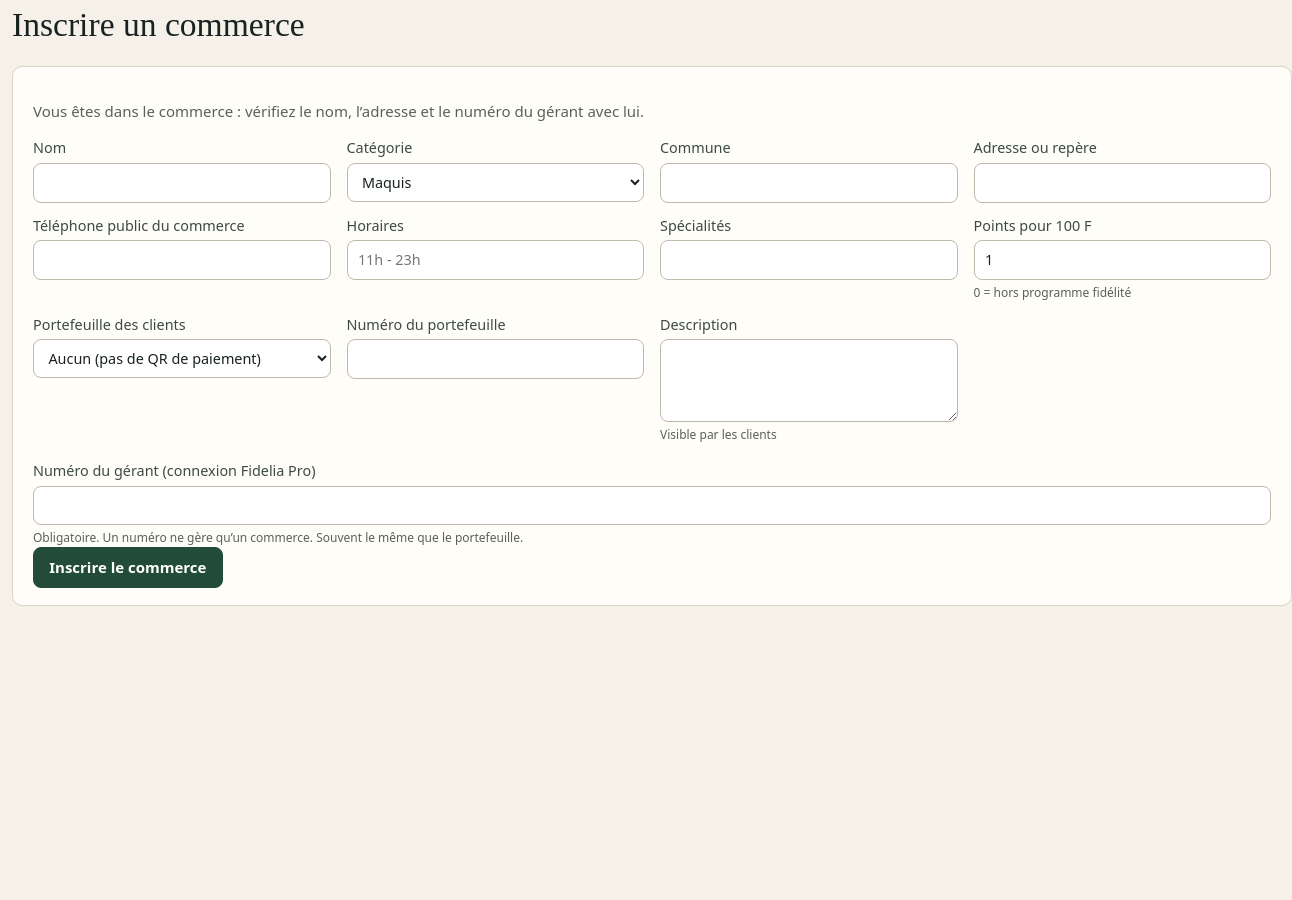
it: field agent › shows the refusal in the server words
The image size is (1292, 900).
In the field labelled "Nom": (182, 183) 33,163 -> 330,203, type "Shop"
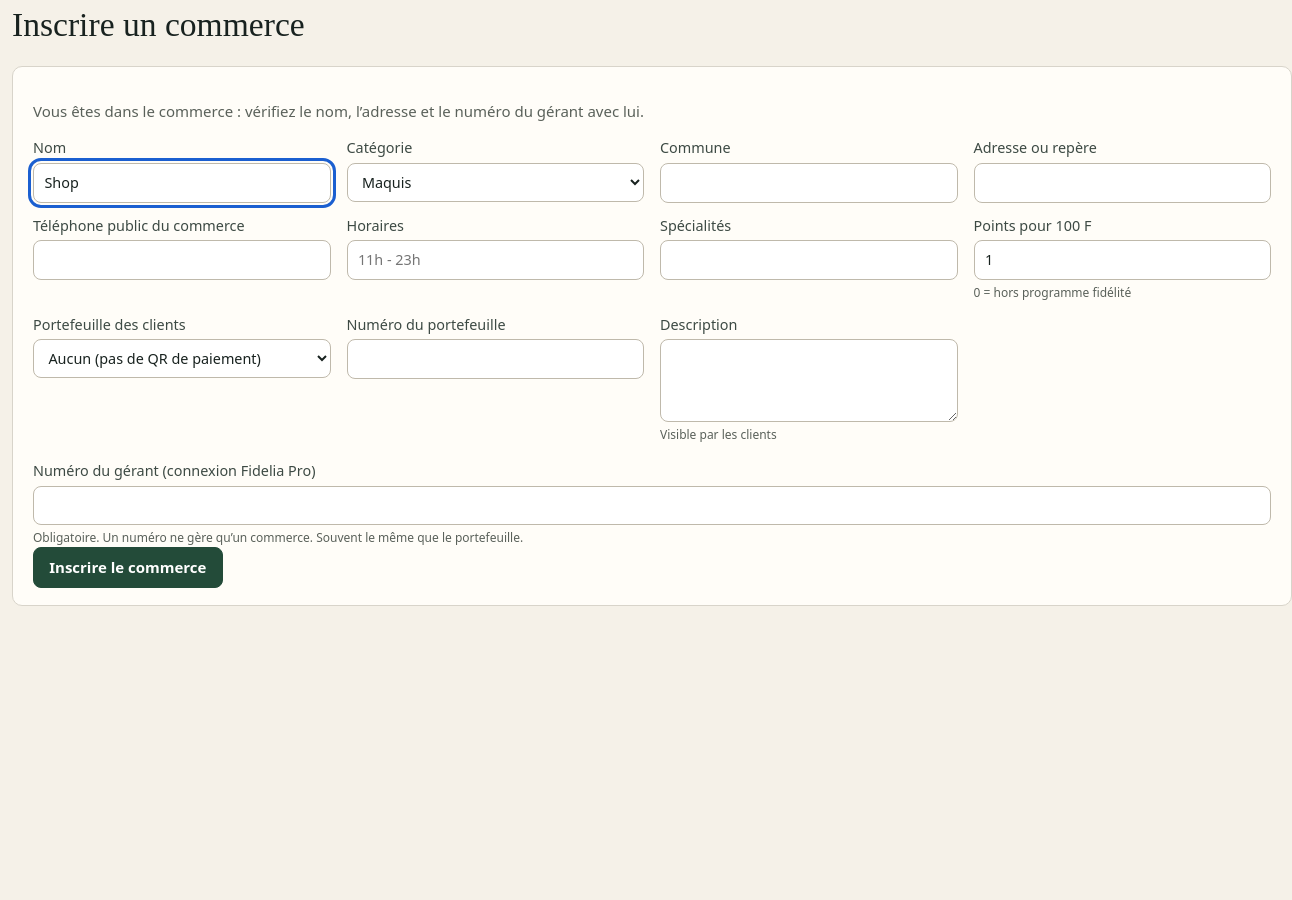
In the field labelled "Commune": (809, 183) 660,163 -> 958,203, type "Abobo"
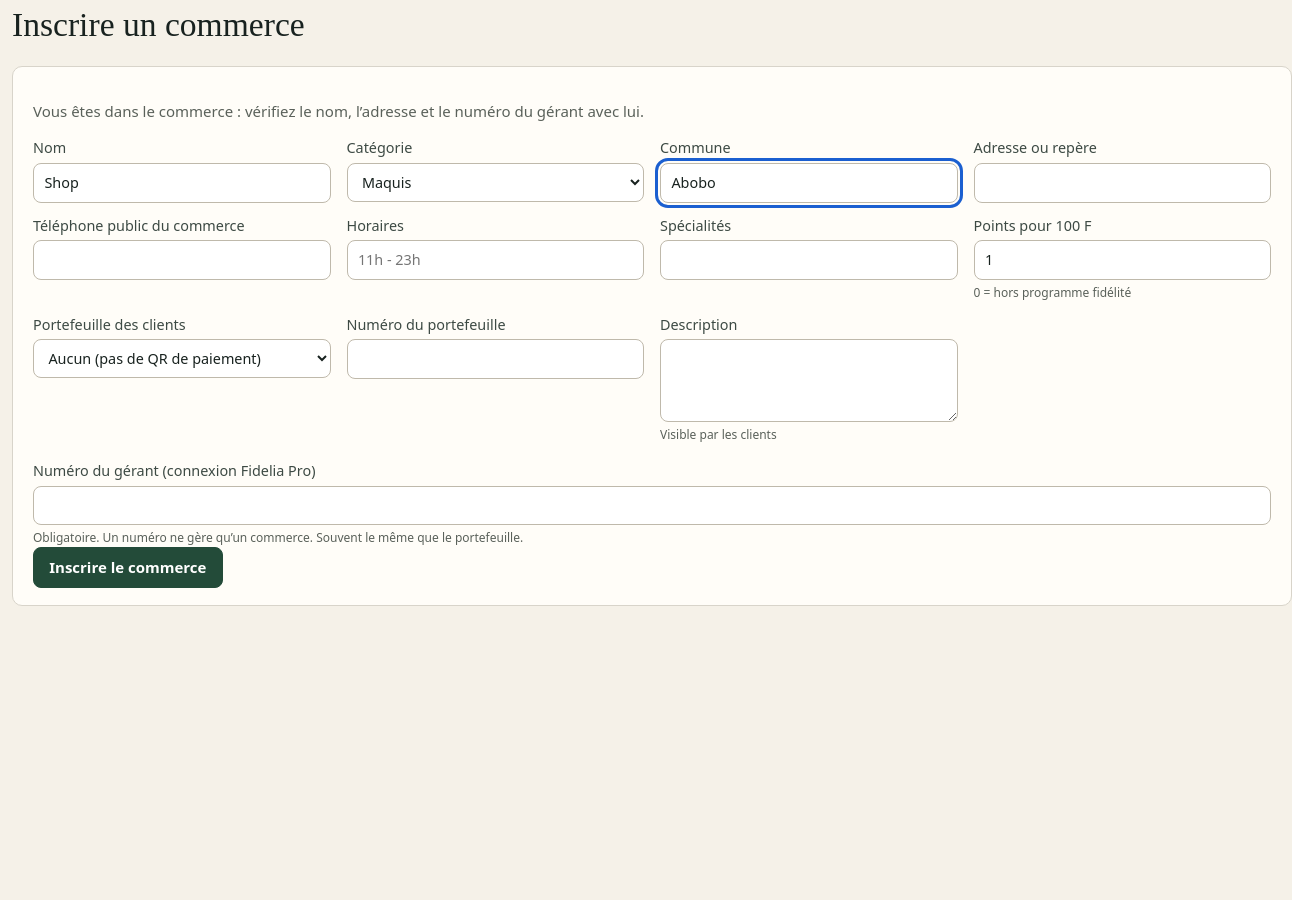
In the field labelled "Numéro du gérant": (652, 506) 33,486 -> 1271,525, type "0755555555"
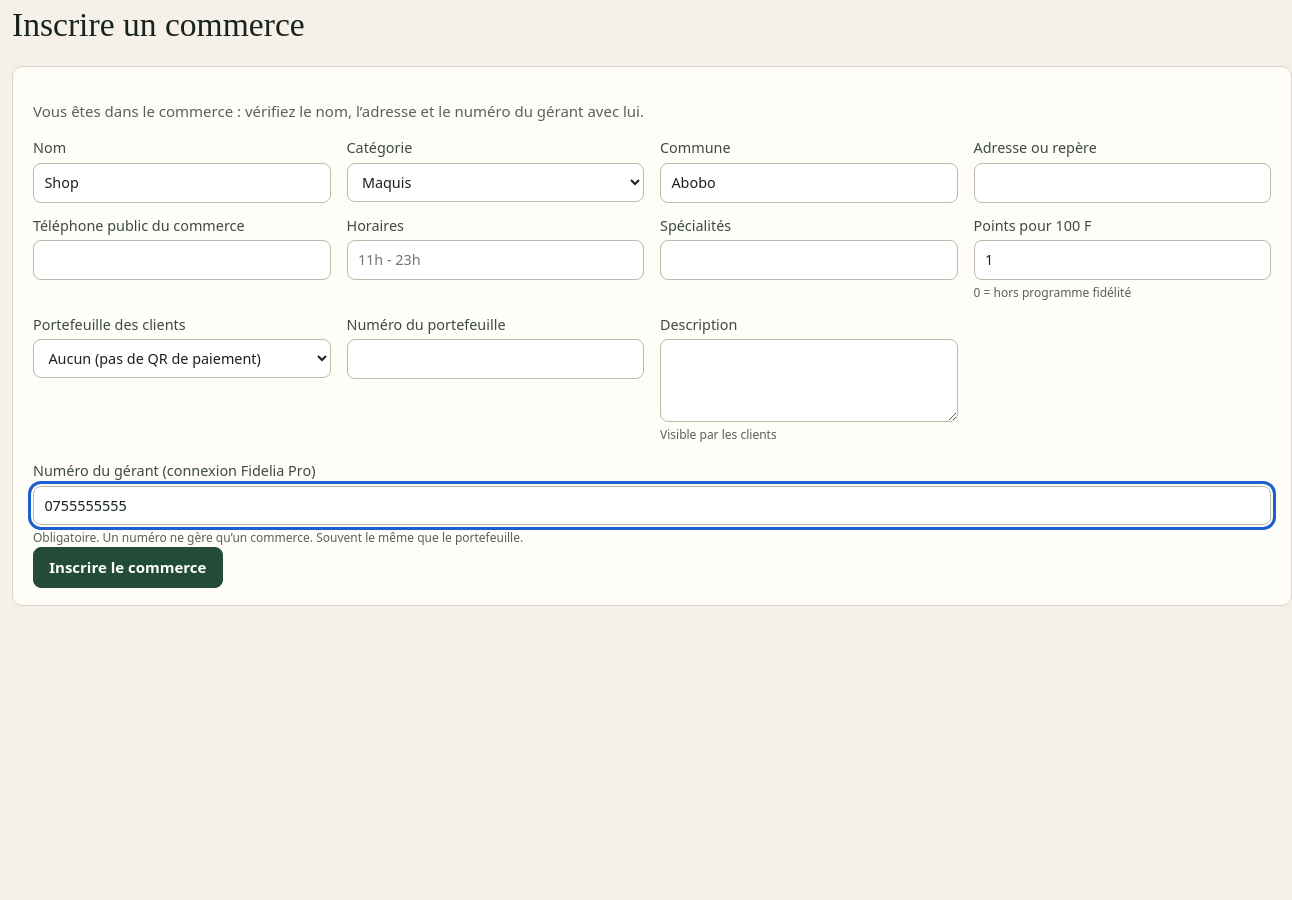
Click the button "Inscrire le commerce": (128, 568) 33,547 -> 223,588
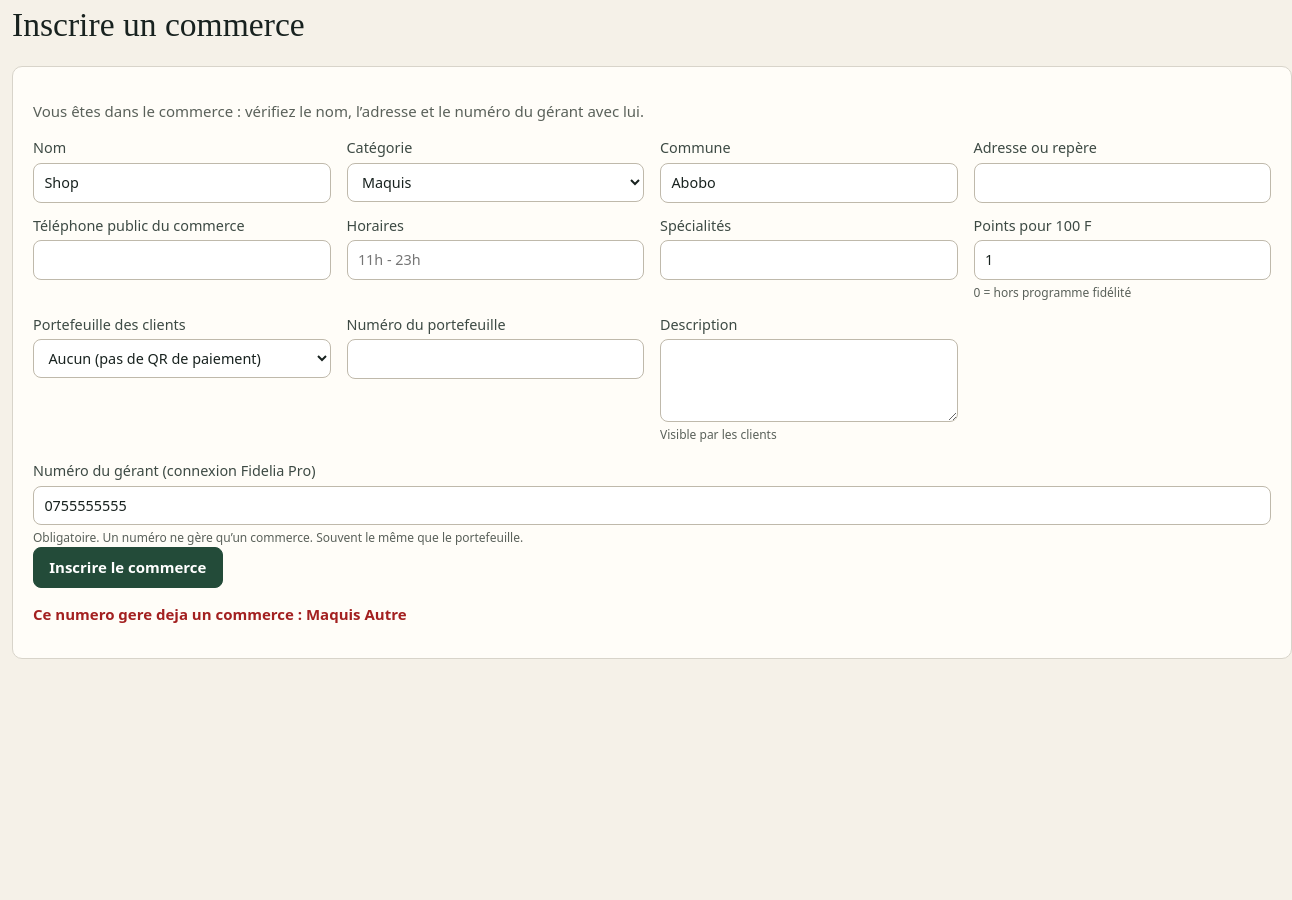
Now the text "Ce numero gere deja un commerce : Maquis Autre" is shown, box 33,604 -> 406,624
